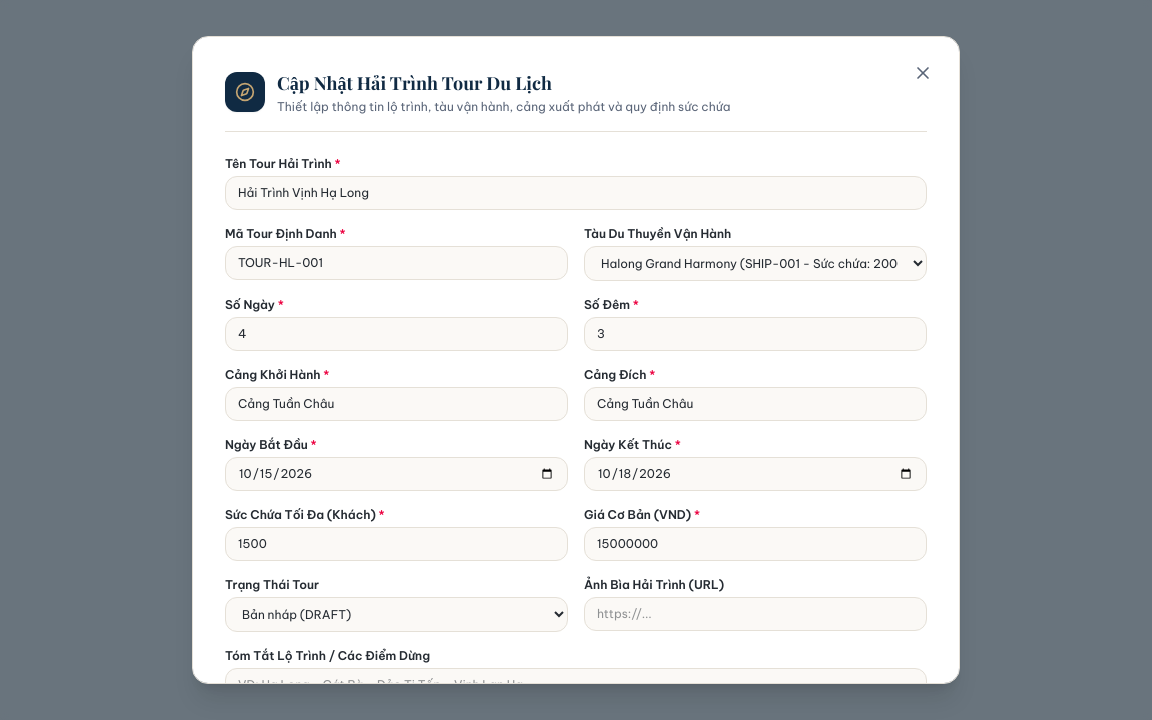
Test case: TourFormModal Component (KAN-101) › validates duration days and nights rule (nights <= days)
Replace the text in the number field labelled "Số Đêm *" with "5": (756, 334) [584,317,927,351]
(page scrolled)
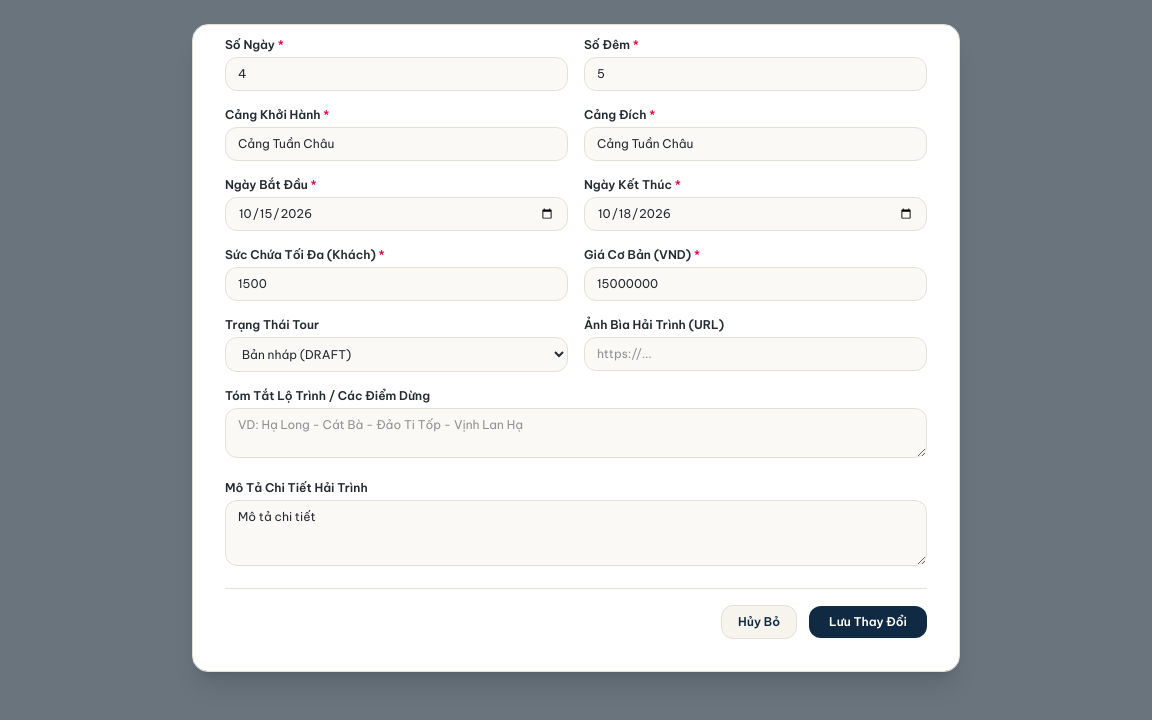
Click the button "Lưu Thay Đổi": (868, 622) [809,606,927,638]
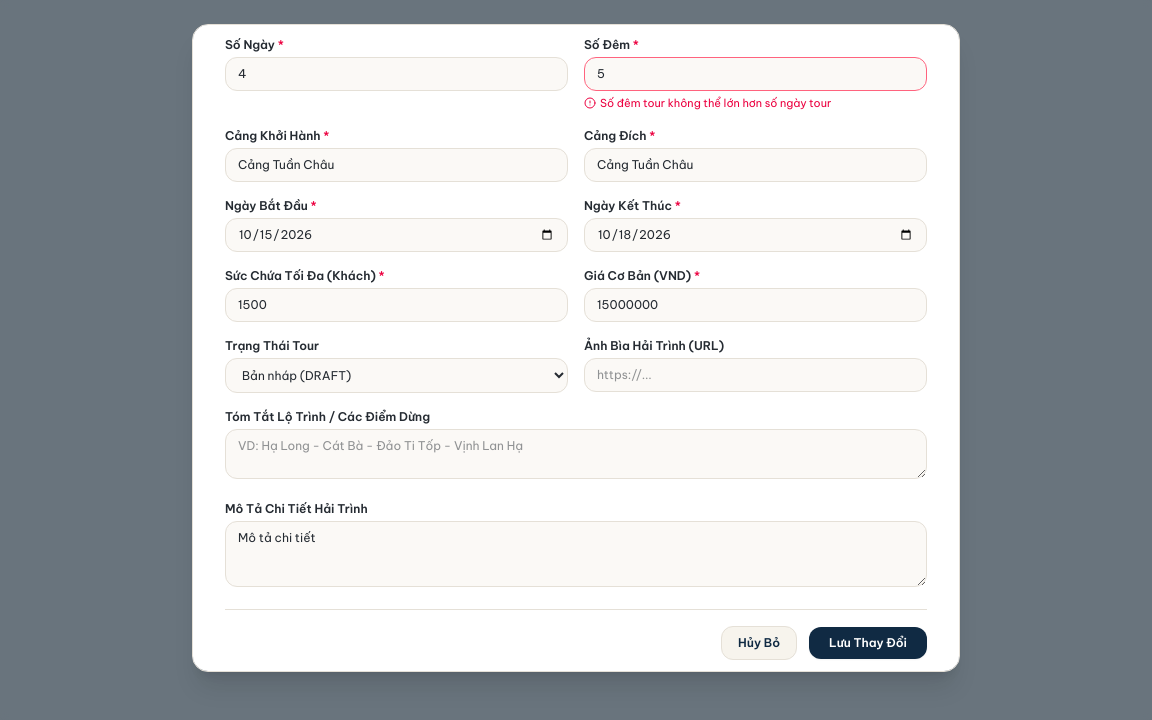
Check: the text "Số đêm tour không thể lớn hơn số ngày tour" is shown, box [584,96,831,110]
